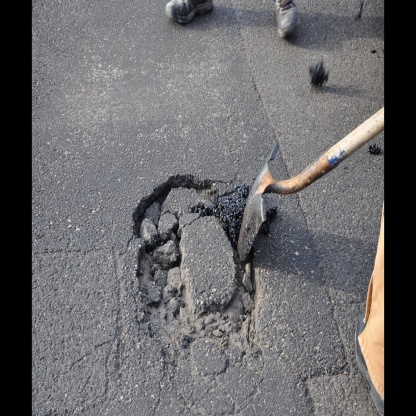pothole: (114, 158, 273, 358)
